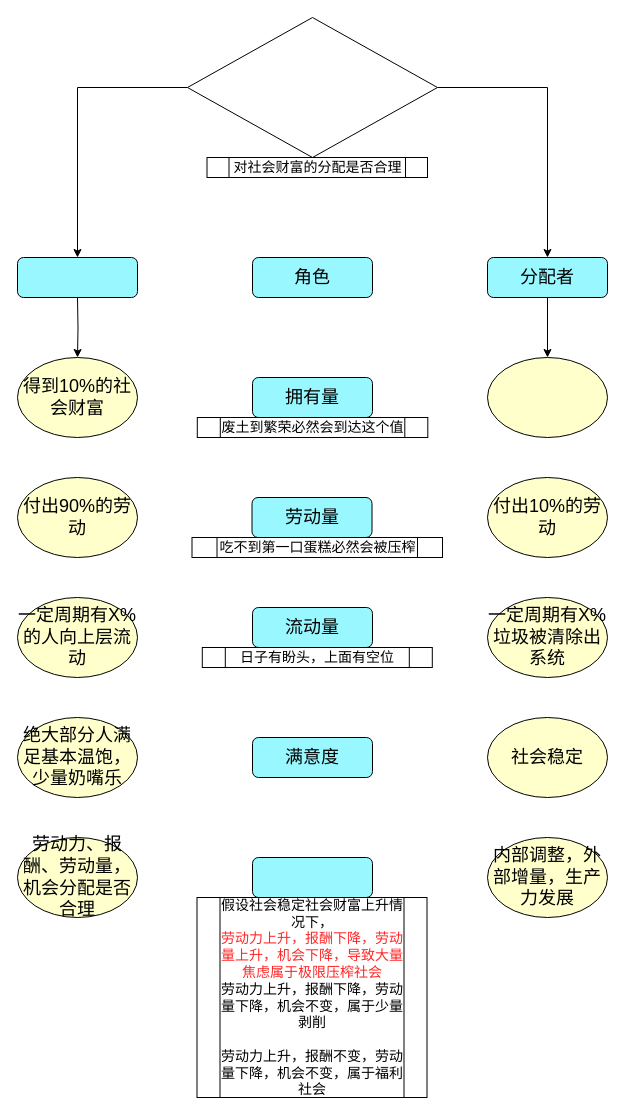
Some shapes in this 625 by 1116 pixel diagram are drawn without their labels. Each missing label, with the centre of its shape:
"劳动者" goes at point 77,277.
"得到90%的社会财富" goes at point 547,397.
"拥挤度" goes at point 312,877.
"社会稳定因素" goes at point 312,87.
